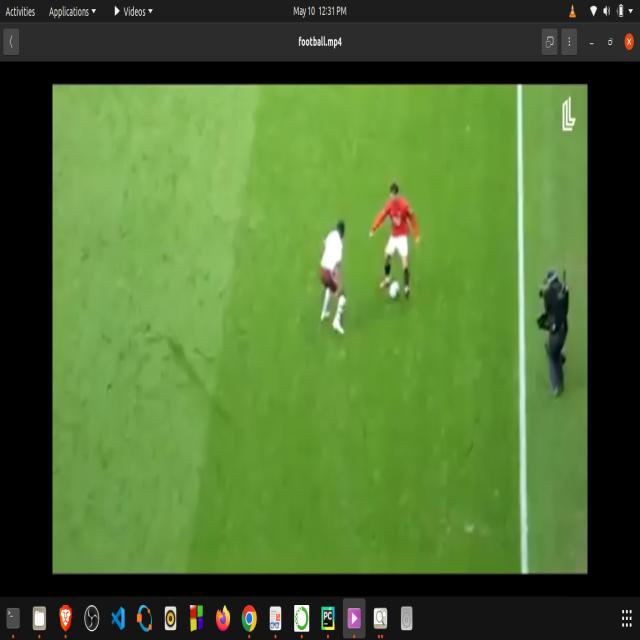Ball: (388, 276, 406, 310)
Refree: (528, 263, 583, 419)
football-players: (370, 170, 420, 318), (313, 207, 355, 354)
